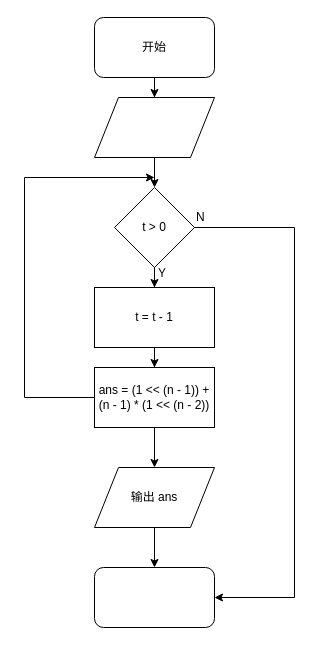
The diagram is 320 pixels wide and 645 high, and some of its shapes have lost their labels. The box of each missing label's shape, as (x1, y1, x2, y2) in pixels:
结束: (94, 566, 214, 628)
输入t, n: (94, 96, 214, 158)
